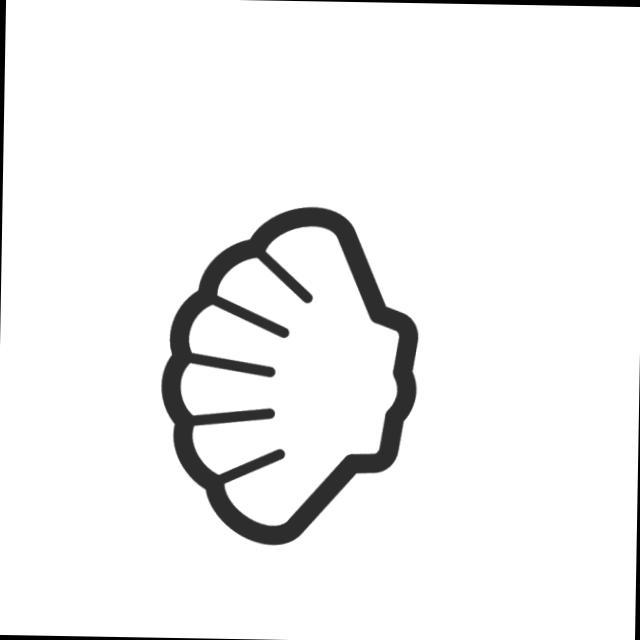shell: (153, 199, 429, 554)
